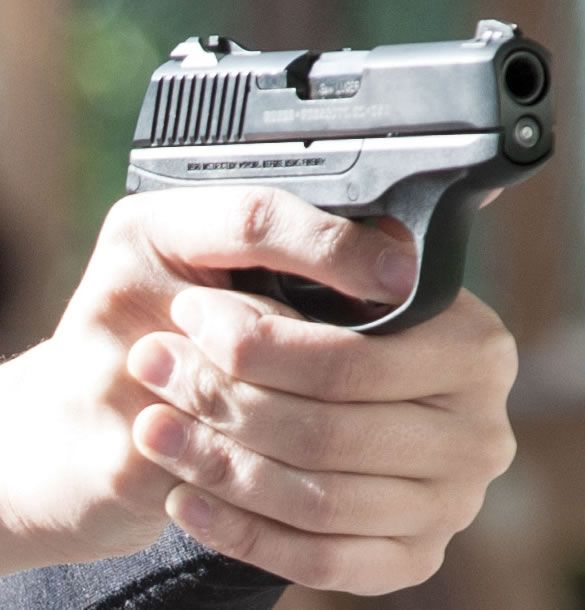gun: (109, 16, 564, 366)
